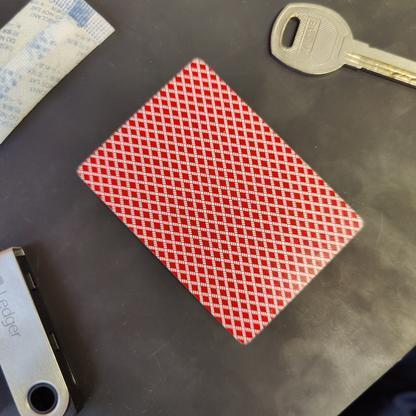card: (67, 52, 373, 351)
